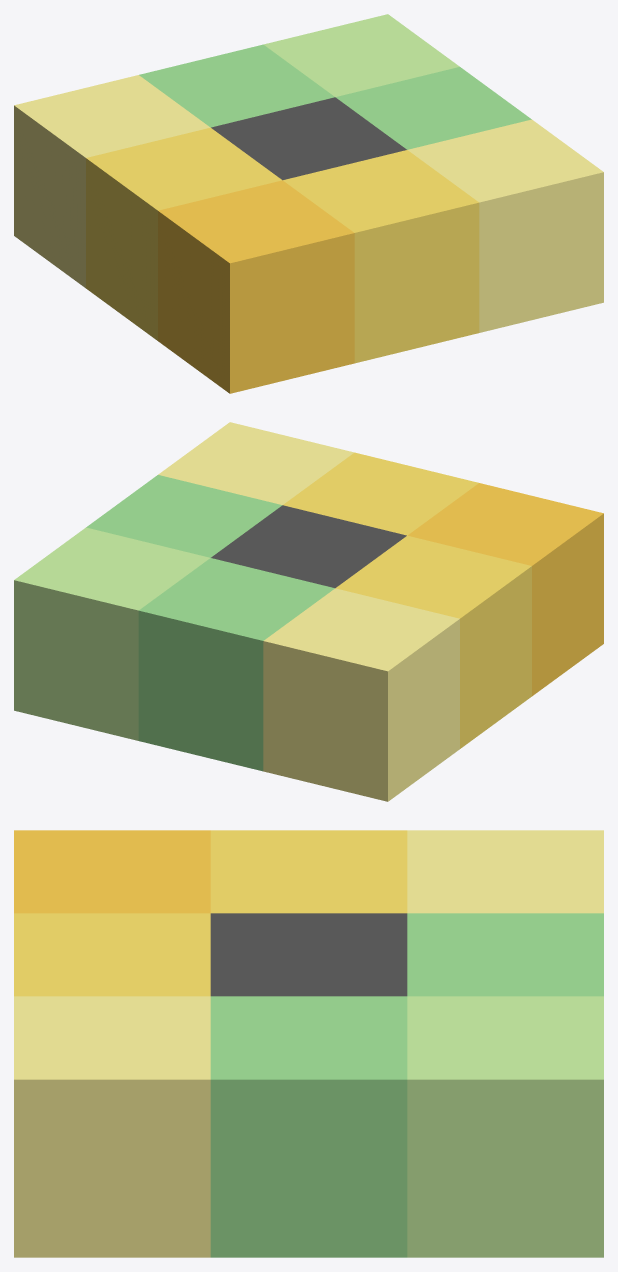
File: Ring 3.fbx
3 renders of one model, top to bottom at view 1: azimuth 30°, elevation 25°; view 2: azimuth 150°, elevation 25°; view 3: azimuth 270°, elevation 25°, orthographic. The views are drawn at different scales.
Visible parts, largest first — view 1: Ring 3; view 2: Ring 3; view 3: Ring 3.
Boxes of the visible parts, bbox=[...] form: Ring 3: bbox=[14, 14, 603, 393]; Ring 3: bbox=[14, 422, 603, 801]; Ring 3: bbox=[14, 830, 603, 1257].
Bounding box in the file's own units: 30 × 10 × 30.
